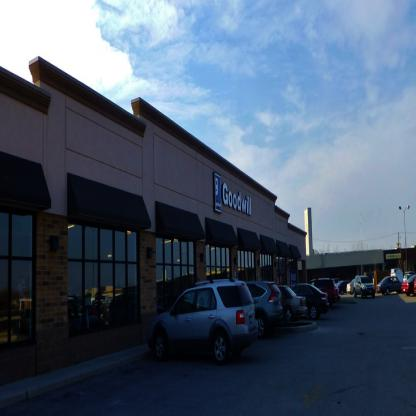Car: (145, 274, 416, 366)
